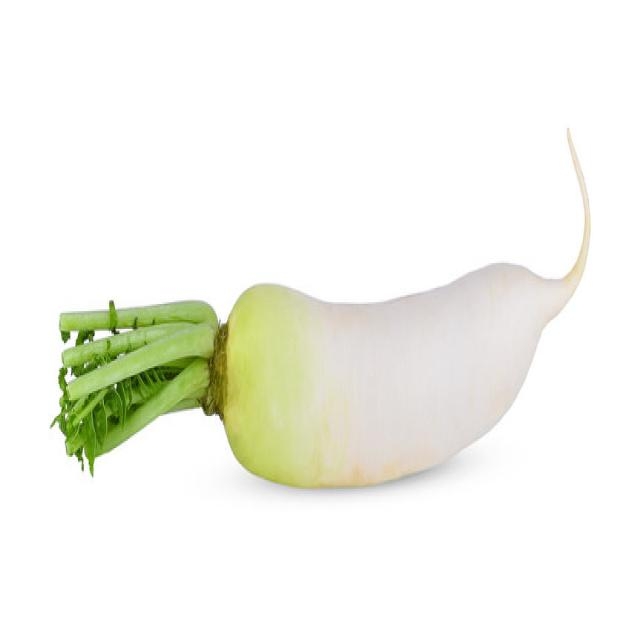Radish: (50, 124, 591, 489)
